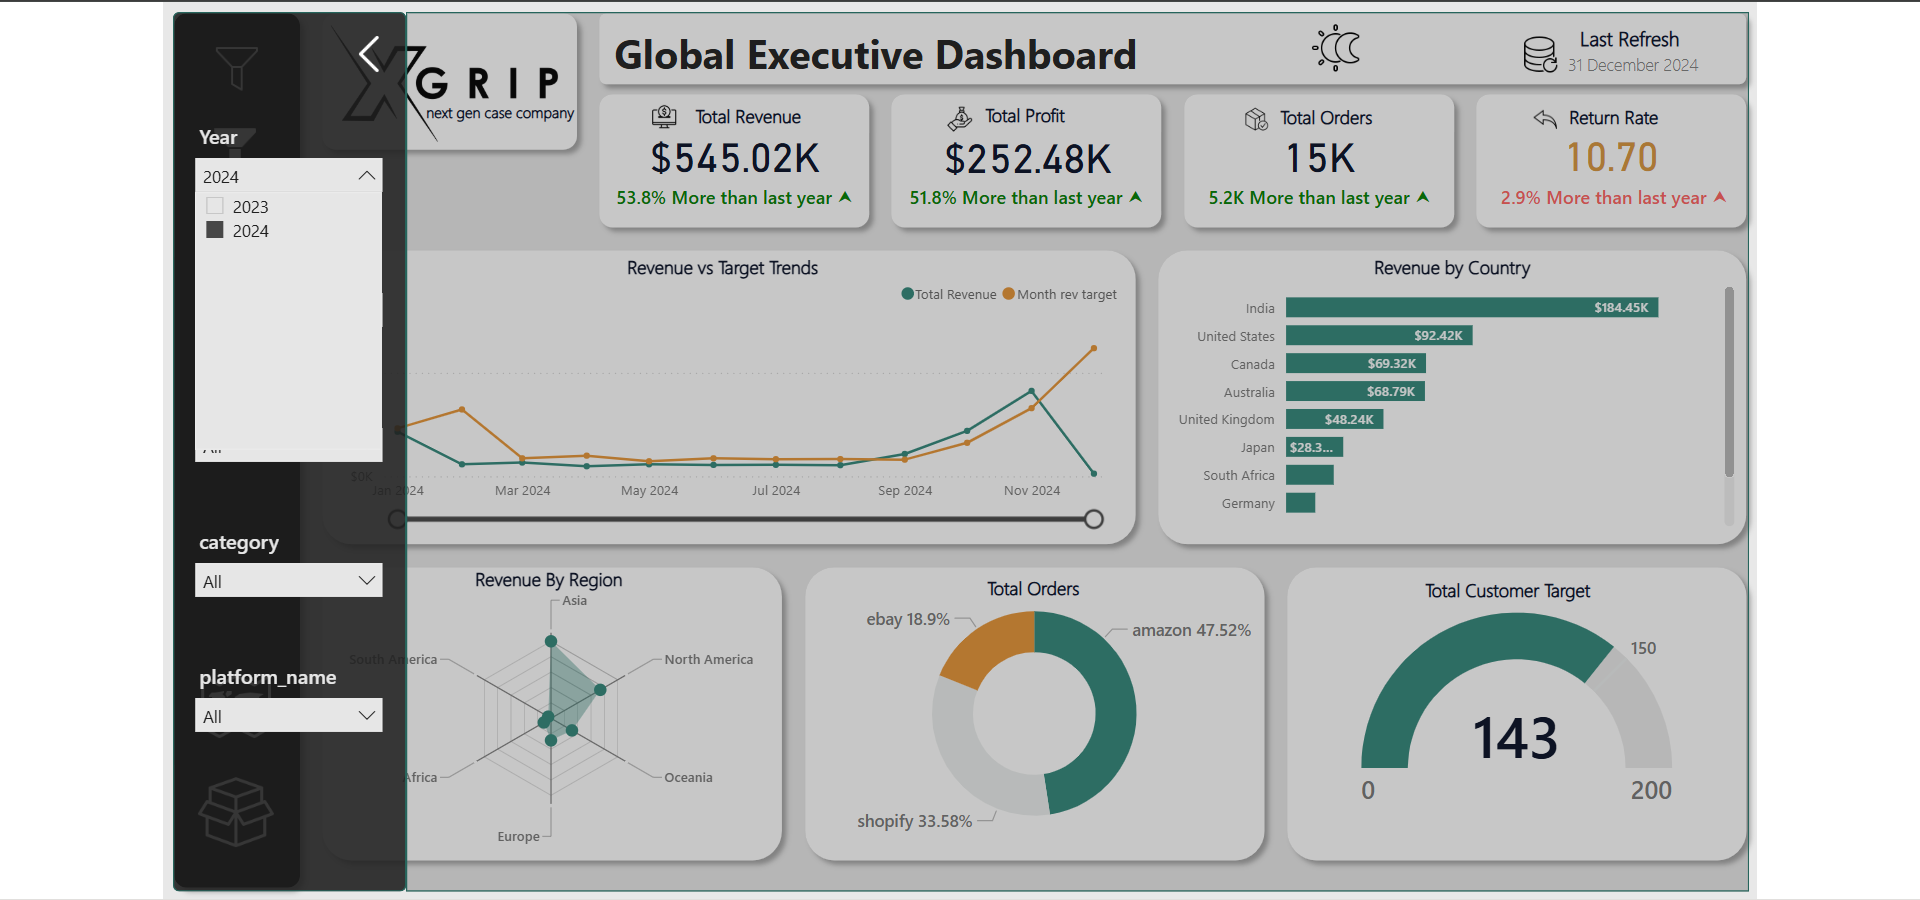

The page's visual inventory and layout, read from the dashboard file:
{"tool":"powerbi","page":{"name":"Executive Dashboard-Dark","canvas":[1280,720],"ordinal":3},"visuals":[{"type":"group","id":"g1","title":"Filter Section","box":[0,0,119,720],"z":0},{"type":"shape","title":"Filter section","box":[0,0,119,720],"z":0,"group":"g1"},{"type":"shape","title":"Logo Shape","box":[118.8,0,222.5,127.5],"z":0,"group":"g15"},{"type":"shape","title":"Heading Shape","box":[341.2,0,938.8,75],"z":0,"group":"g16"},{"type":"image","box":[1085.3,14,39.5,57.5],"z":0,"group":"g9"},{"type":"shape","title":"Total Rev KPI Shape","box":[341.2,65,234.7,125],"z":0,"group":"g14"},{"type":"shape","title":"Total Profit Shape","box":[575.9,65,234.7,125],"z":0,"group":"g10"},{"type":"shape","title":"Total Orders Shape","box":[810.6,65,234.7,125],"z":0,"group":"g5"},{"type":"group","id":"g2","title":"Return Rate KPI","box":[1045.3,65,234.7,125],"z":0,"group":"g13"},{"type":"shape","title":"Return Rate Shape","box":[1045.3,65,234.7,125],"z":0,"group":"g2"},{"type":"shape","title":"Line Chart Shape","box":[118.9,190,671,254],"z":0,"group":"g6"},{"type":"group","id":"g3","title":"Revenue By Country","box":[790,190,490,254],"z":0,"group":"g11"},{"type":"shape","title":"Bar Chart Shape","box":[790,190,490,254],"z":0,"group":"g3"},{"type":"shape","title":"Revenue By Region Shape","box":[118.9,444.4,387,253.3],"z":0,"group":"g12"},{"type":"shape","title":" Total Orders Shape","box":[506.3,444.4,386.7,253.3],"z":0,"group":"g8"},{"type":"group","id":"g4","title":"Total Customers","box":[893.4,444.4,386.7,253.3],"z":0,"group":"g7"},{"type":"shape","title":"Total Customers Shape","box":[893.4,444.4,386.7,253.3],"z":0,"group":"g4"},{"type":"textbox","title":"Text","box":[357.4,13.5,677.8,55.3],"z":1000,"group":"g16"},{"type":"textbox","box":[1112.6,14,129.7,32],"z":1000,"group":"g9"},{"type":"image","title":"Filter Icon","box":[35,25.3,47.7,56.4],"z":1000,"group":"g1"},{"type":"group","id":"g5","title":"Total Orders KPI","box":[810.6,65,234.7,125],"z":1000,"group":"g13"},{"type":"textbox","title":"Heading","box":[417.9,76.6,103,33],"z":1000,"group":"g14"},{"type":"image","box":[624.7,76.7,30.4,35],"z":1000,"group":"g10"},{"type":"image","box":[862.7,76.7,30.4,35],"z":1000,"group":"g5"},{"type":"image","box":[1095,76.7,29.3,35],"z":1000,"group":"g2"},{"type":"group","id":"g6","title":"Revenue vs Target","box":[118.9,190,671,254],"z":1000,"group":"g11"},{"type":"lineChart","fields":{"Y":["measure.Total Revenue","measure.Month rev target"],"Category":["date table.Year Hierarchy.Year","date table.Year Hierarchy.Quarter","date table.Year Hierarchy.Month Start Date"]},"box":[133,214.7,642,210.6],"z":1000,"group":"g6"},{"type":"barChart","fields":{"Category":["country.country"],"Y":["measure.Total Revenue"]},"box":[803.7,214.7,462.9,210.6],"z":1000,"group":"g3"},{"type":"group","id":"g7","title":"Bottom Charts","box":[117.4,444.4,1162.6,253.3],"z":1000},{"type":"group","id":"g8","title":"Total Orders","box":[506.3,444.4,386.7,253.3],"z":1000,"group":"g7"},{"type":"donutChart","title":"Total Orders Chart","fields":{"Y":["measure.Total Orders"],"Category":["marketplace.platform_name"]},"box":[519.2,456.5,360,228.7],"z":1000,"group":"g8"},{"type":"RadarChart1446119667547","title":"Total Rev by region Chart","fields":{"Category":["country.region"],"Y":["measure.Total Revenue"]},"box":[117.4,464.4,388.9,220.8],"z":1000,"group":"g12"},{"type":"gauge","fields":{"Y":["measure.Total Customers"]},"box":[956.8,469.4,259.6,202.9],"z":1000,"group":"g4"},{"type":"image","title":"White Logo","box":[122,0,214,130],"z":2000,"group":"g15"},{"type":"group","id":"g9","title":"Last Refresh","box":[1085.3,14,187.9,58],"z":2000,"group":"g16"},{"type":"card","fields":{"Values":["measure.Last Refresh"]},"box":[1091.6,35,181.6,37],"z":2000,"group":"g9"},{"type":"group","id":"g10","title":"Total Profit KPI","box":[575.9,65,234.7,125],"z":2000,"group":"g13"},{"type":"image","box":[387.1,74.9,31.1,35],"z":2000,"group":"g14"},{"type":"textbox","box":[655.2,75.6,99.2,33.8],"z":2000,"group":"g10"},{"type":"textbox","box":[892,76.7,99.2,35],"z":2000,"group":"g5"},{"type":"textbox","box":[1124,76.7,99.2,35],"z":2000,"group":"g2"},{"type":"group","id":"g11","title":"Middle Charts","box":[118.9,190,1161.1,254],"z":2000},{"type":"textbox","title":"Line Chart Heading","box":[367.5,196.8,171.6,33.9],"z":2000,"group":"g6"},{"type":"textbox","title":"Rev By Country Heading","box":[967.8,196.8,144.5,33.9],"z":2000,"group":"g3"},{"type":"group","id":"g12","title":"Revenue By Region","box":[117.4,444.4,388.9,253.3],"z":2000,"group":"g7"},{"type":"textbox","title":"Revenue By Region Heading","box":[246,448,137.7,33.9],"z":2000,"group":"g12"},{"type":"textbox","title":"Total Orders Heading","box":[656.5,454.7,88.2,33.9],"z":2000,"group":"g8"},{"type":"textbox","title":"Total Customer Heading","box":[1008.6,456.7,166.8,32],"z":2000,"group":"g4"},{"type":"image","title":"Map icon","box":[15.6,529.5,86.6,71],"z":2000,"group":"g1"},{"type":"image","title":"Dark Mode toggle","box":[914.2,13.3,53.1,48],"z":3000,"group":"g16"},{"type":"group","id":"g13","title":"KPIs","box":[341.2,65,938.8,125],"z":3000},{"type":"group","id":"g14","title":"Total Revenue KPI","box":[341.2,65,234.7,125],"z":3000,"group":"g13"},{"type":"image","title":"Clear Filter Icon","box":[36,92,48.3,56.4],"z":3000,"group":"g1"},{"type":"card","title":"Total Rev Diff","fields":{"Values":["measure.Revenue Growth"]},"box":[352,144.2,214.7,28.4],"z":3000,"group":"g14"},{"type":"card","title":"Total Profit Diff","fields":{"Values":["measure.Profit Growth"]},"box":[586.3,144.2,214.7,28.4],"z":3000,"group":"g10"},{"type":"card","title":"Total Orders Diff","fields":{"Values":["measure.Orders Growth"]},"box":[821,144.2,214.7,28.4],"z":3000,"group":"g5"},{"type":"card","title":"Return Rate Diff","fields":{"Values":["measure.Return Growth"]},"box":[1058,144.5,214.3,28.1],"z":3000,"group":"g2"},{"type":"group","id":"g15","title":"Logo","box":[118.8,0,228.8,130.4],"z":4000},{"type":"card","title":"Total Rev Value","fields":{"Values":["measure.Total Revenue"]},"box":[367.3,89,182.9,67.1],"z":4000,"group":"g14"},{"type":"card","title":"Total Profit Value","fields":{"Values":["measure.Total Profit"]},"box":[602.9,90.1,182.7,66.5],"z":4000,"group":"g10"},{"type":"card","title":"Total Orders Value","fields":{"Values":["measure.Total Orders"]},"box":[837.4,90.1,181.6,65.4],"z":4000,"group":"g5"},{"type":"card","title":"Return Rate Value","fields":{"Values":["measure.Return Rate"]},"box":[1072,90.1,181.6,64.3],"z":4000,"group":"g2"},{"type":"image","title":"Product icon","box":[15.8,614.6,85.7,71],"z":4000,"group":"g1"},{"type":"group","id":"g16","title":"Heading","box":[341.2,0,938.8,75],"z":5000}]}

Visuals, with their boxes on the page's 1280x720 design canvas (x1, y1, x2, y2). These are canvas units, not pixel positions in the 1920x900 screenshot, which may show the page scaled, cropped or inside an application window:
"Filter Section" group: pyautogui.locateOnScreen(0, 0, 119, 720)
"Filter section" shape: pyautogui.locateOnScreen(0, 0, 119, 720)
"Logo Shape" shape: pyautogui.locateOnScreen(119, 0, 341, 128)
"Heading Shape" shape: pyautogui.locateOnScreen(341, 0, 1280, 75)
image: pyautogui.locateOnScreen(1085, 14, 1125, 72)
"Total Rev KPI Shape" shape: pyautogui.locateOnScreen(341, 65, 576, 190)
"Total Profit Shape" shape: pyautogui.locateOnScreen(576, 65, 811, 190)
"Total Orders Shape" shape: pyautogui.locateOnScreen(811, 65, 1045, 190)
"Return Rate KPI" group: pyautogui.locateOnScreen(1045, 65, 1280, 190)
"Return Rate Shape" shape: pyautogui.locateOnScreen(1045, 65, 1280, 190)
"Line Chart Shape" shape: pyautogui.locateOnScreen(119, 190, 790, 444)
"Revenue By Country" group: pyautogui.locateOnScreen(790, 190, 1280, 444)
"Bar Chart Shape" shape: pyautogui.locateOnScreen(790, 190, 1280, 444)
"Revenue By Region Shape" shape: pyautogui.locateOnScreen(119, 444, 506, 698)
" Total Orders Shape" shape: pyautogui.locateOnScreen(506, 444, 893, 698)
"Total Customers" group: pyautogui.locateOnScreen(893, 444, 1280, 698)
"Total Customers Shape" shape: pyautogui.locateOnScreen(893, 444, 1280, 698)
"Text" textbox: pyautogui.locateOnScreen(357, 14, 1035, 69)
textbox: pyautogui.locateOnScreen(1113, 14, 1242, 46)
"Filter Icon" image: pyautogui.locateOnScreen(35, 25, 83, 82)
"Total Orders KPI" group: pyautogui.locateOnScreen(811, 65, 1045, 190)
"Heading" textbox: pyautogui.locateOnScreen(418, 77, 521, 110)
image: pyautogui.locateOnScreen(625, 77, 655, 112)
image: pyautogui.locateOnScreen(863, 77, 893, 112)
image: pyautogui.locateOnScreen(1095, 77, 1124, 112)
"Revenue vs Target" group: pyautogui.locateOnScreen(119, 190, 790, 444)
lineChart - measure.Total Revenue x measure.Month rev target: pyautogui.locateOnScreen(133, 215, 775, 425)
barChart - country.country x measure.Total Revenue: pyautogui.locateOnScreen(804, 215, 1267, 425)
"Bottom Charts" group: pyautogui.locateOnScreen(117, 444, 1280, 698)
"Total Orders" group: pyautogui.locateOnScreen(506, 444, 893, 698)
"Total Orders Chart" donutChart: pyautogui.locateOnScreen(519, 456, 879, 685)
"Total Rev by region Chart" RadarChart1446119667547: pyautogui.locateOnScreen(117, 464, 506, 685)
gauge - measure.Total Customers: pyautogui.locateOnScreen(957, 469, 1216, 672)
"White Logo" image: pyautogui.locateOnScreen(122, 0, 336, 130)
"Last Refresh" group: pyautogui.locateOnScreen(1085, 14, 1273, 72)
card - measure.Last Refresh: pyautogui.locateOnScreen(1092, 35, 1273, 72)
"Total Profit KPI" group: pyautogui.locateOnScreen(576, 65, 811, 190)
image: pyautogui.locateOnScreen(387, 75, 418, 110)
textbox: pyautogui.locateOnScreen(655, 76, 754, 109)
textbox: pyautogui.locateOnScreen(892, 77, 991, 112)
textbox: pyautogui.locateOnScreen(1124, 77, 1223, 112)
"Middle Charts" group: pyautogui.locateOnScreen(119, 190, 1280, 444)
"Line Chart Heading" textbox: pyautogui.locateOnScreen(368, 197, 539, 231)
"Rev By Country Heading" textbox: pyautogui.locateOnScreen(968, 197, 1112, 231)
"Revenue By Region" group: pyautogui.locateOnScreen(117, 444, 506, 698)
"Revenue By Region Heading" textbox: pyautogui.locateOnScreen(246, 448, 384, 482)
"Total Orders Heading" textbox: pyautogui.locateOnScreen(656, 455, 745, 489)
"Total Customer Heading" textbox: pyautogui.locateOnScreen(1009, 457, 1175, 489)
"Map icon" image: pyautogui.locateOnScreen(16, 530, 102, 600)
"Dark Mode toggle" image: pyautogui.locateOnScreen(914, 13, 967, 61)
"KPIs" group: pyautogui.locateOnScreen(341, 65, 1280, 190)
"Total Revenue KPI" group: pyautogui.locateOnScreen(341, 65, 576, 190)
"Clear Filter Icon" image: pyautogui.locateOnScreen(36, 92, 84, 148)
"Total Rev Diff" card: pyautogui.locateOnScreen(352, 144, 567, 173)
"Total Profit Diff" card: pyautogui.locateOnScreen(586, 144, 801, 173)
"Total Orders Diff" card: pyautogui.locateOnScreen(821, 144, 1036, 173)
"Return Rate Diff" card: pyautogui.locateOnScreen(1058, 144, 1272, 173)
"Logo" group: pyautogui.locateOnScreen(119, 0, 348, 130)
"Total Rev Value" card: pyautogui.locateOnScreen(367, 89, 550, 156)
"Total Profit Value" card: pyautogui.locateOnScreen(603, 90, 786, 157)
"Total Orders Value" card: pyautogui.locateOnScreen(837, 90, 1019, 156)
"Return Rate Value" card: pyautogui.locateOnScreen(1072, 90, 1254, 154)
"Product icon" image: pyautogui.locateOnScreen(16, 615, 102, 686)
"Heading" group: pyautogui.locateOnScreen(341, 0, 1280, 75)
